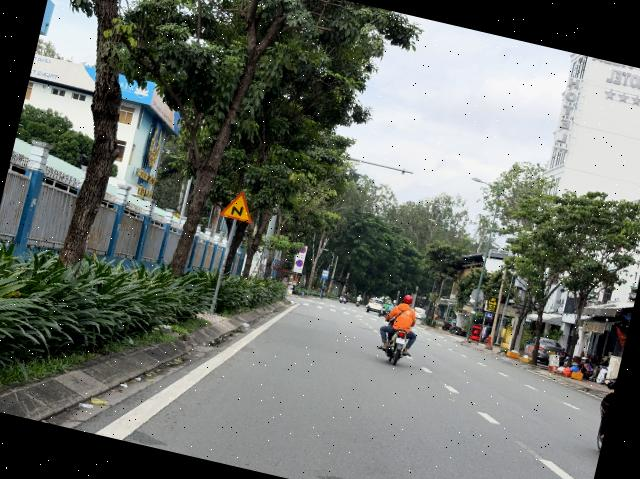nhieu-cho-ngoat-nguy-hiem-lien-tiep: (219, 188, 258, 223)
